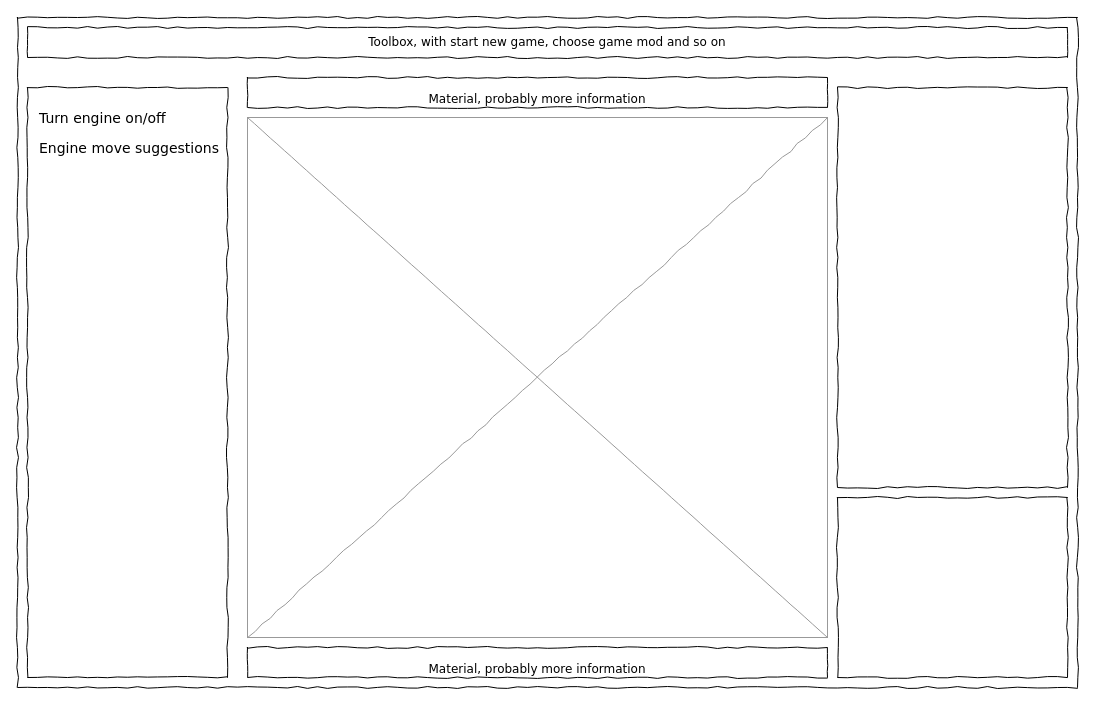
The diagram is 1095 pixels wide and 705 high, and some of its shapes have lost their labels. Here are the shapes that lost their labels. From the top down, the centre of each, then its label:
At [952,287]: "Move history".
At [952,587]: "PasteFEN".
